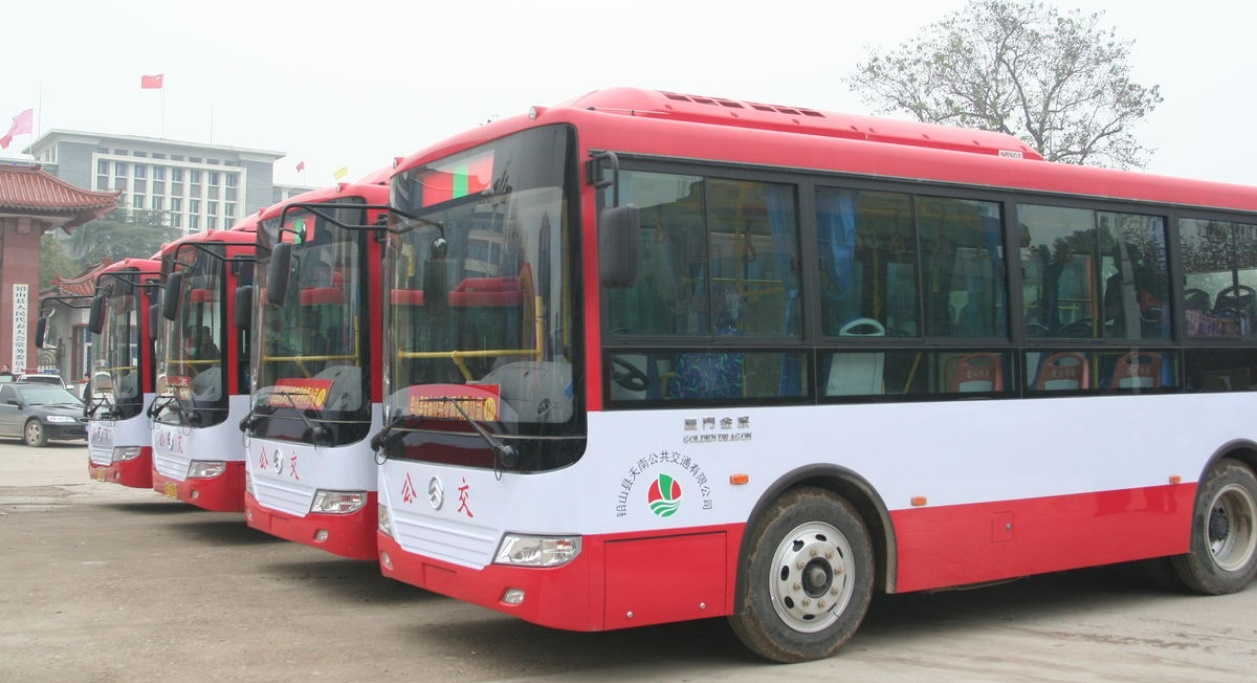bus: (381, 119, 1257, 625), (232, 188, 394, 554), (146, 225, 249, 515), (62, 246, 157, 489)
